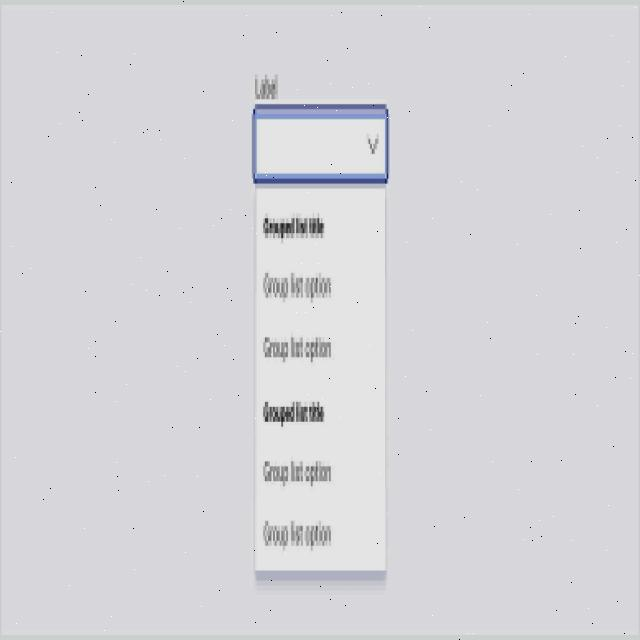dropdownMenu: (250, 104, 388, 579)
label: (244, 67, 288, 102)
menuItem: (258, 266, 339, 304), (258, 330, 337, 365), (256, 208, 334, 240), (259, 396, 333, 426)
